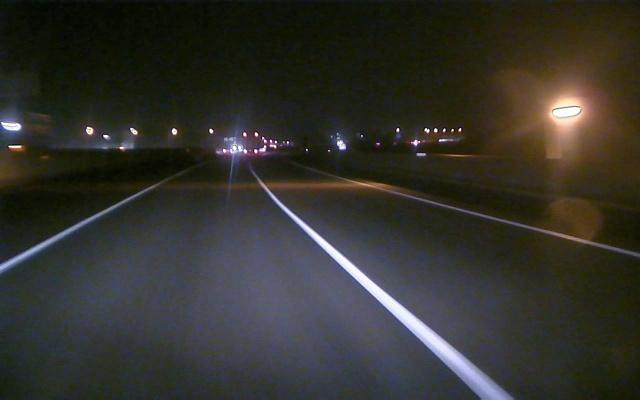lane: (257, 179, 512, 396), (364, 183, 638, 259), (2, 185, 155, 272)
